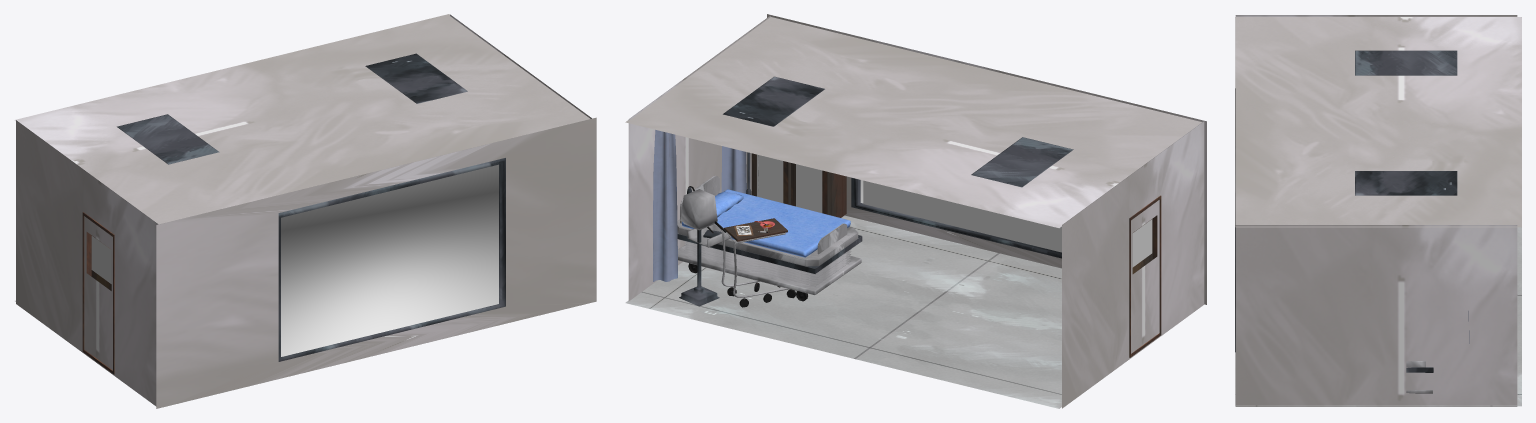
The model's file is E2_Hospital.fbx.
3 views of the same model, side by side, from view 1: azimuth 30°, elevation 25°; view 2: azimuth 150°, elevation 25°; view 3: azimuth 270°, elevation 25° (orthographic).
Visible parts, largest first — view 1: serum1; view 2: serum1, 4k-black-hole-with-bright-horizon-kug5rf2bs46mxcur.001, CORTINA 2.2; view 3: serum1.
Boxes of the visible parts, x1,y1,x2,y2 form: serum1: (14,14,596,408); serum1: (625,14,1206,408); 4k-black-hole-with-bright-horizon-kug5rf2bs46mxcur.001: (863,180,1061,252); CORTINA 2.2: (653,130,746,281); serum1: (1235,15,1521,406).
Bounding box in the file's own units: 704 × 281 × 401.
11 materials, 2 textured.
